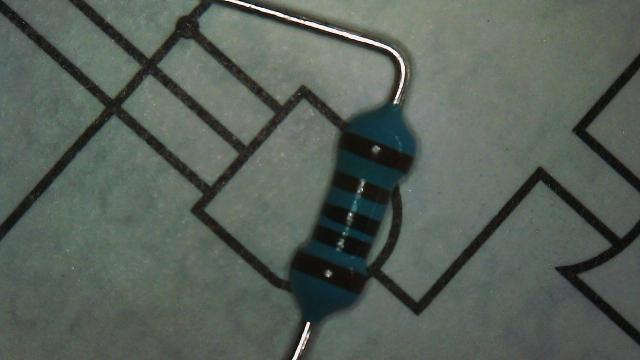black: (312, 225, 370, 258), (324, 206, 375, 229)
brown: (291, 252, 366, 294), (338, 132, 413, 173), (332, 172, 390, 205)
resistor: (267, 90, 430, 344)
